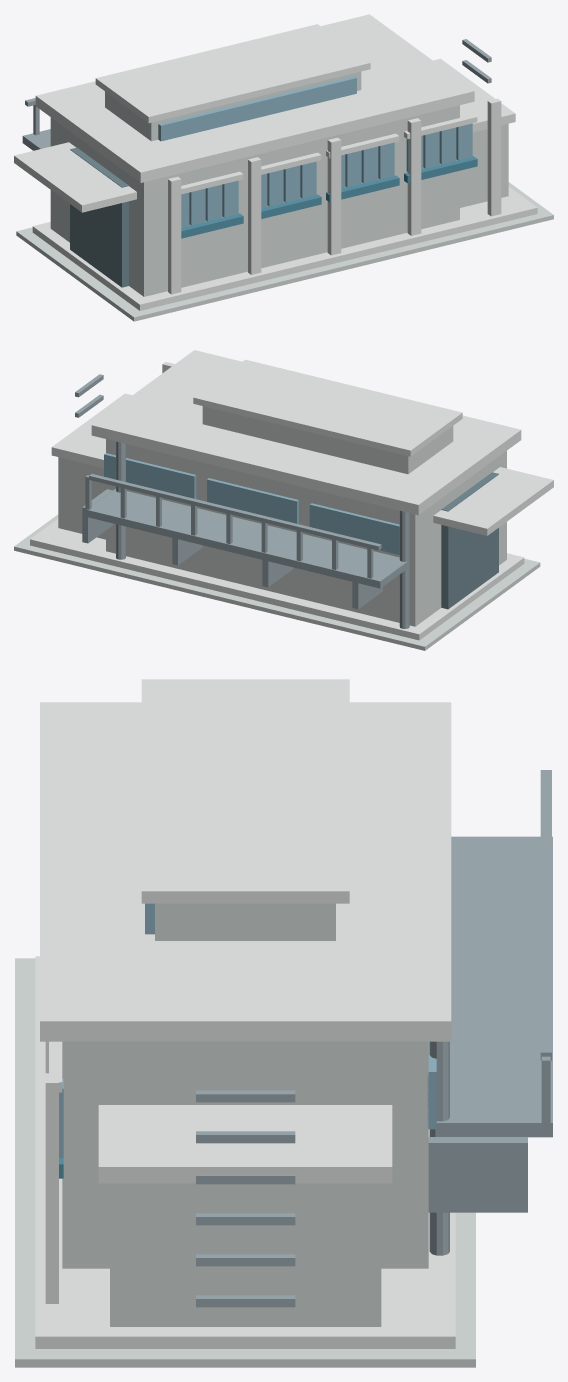
Rendered from treatmenthouse.glb.
The picture shows the model from 3 angles, top to bottom: view 1: azimuth 30°, elevation 25°; view 2: azimuth 150°, elevation 25°; view 3: azimuth 270°, elevation 25°; orthographic projection. The views are drawn at different scales.
Parts seen in each view (by area): view 1: TreatmentHouse; view 2: TreatmentHouse; view 3: TreatmentHouse.
Part boxes in pixels (x1,y1,x2,y2): TreatmentHouse: (14, 14, 553, 321); TreatmentHouse: (14, 350, 553, 650); TreatmentHouse: (15, 679, 552, 1367).
Size of the model in its own units: 4.53 by 1.62 by 2.38.
